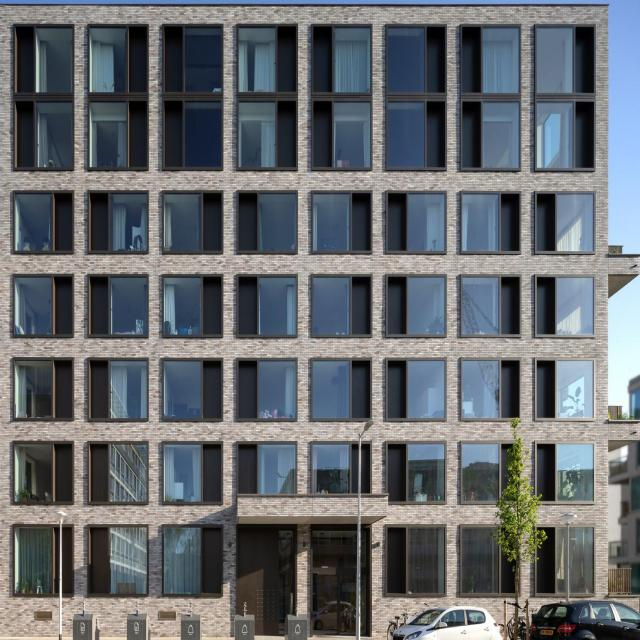door: (312, 534, 367, 638), (238, 532, 279, 637)
window: (388, 528, 445, 596), (386, 278, 446, 341), (387, 443, 447, 502), (387, 362, 445, 421), (35, 29, 74, 99), (35, 106, 75, 173), (15, 528, 53, 596), (556, 529, 594, 596), (461, 531, 499, 596), (184, 105, 220, 173), (239, 103, 276, 169), (90, 103, 126, 170), (484, 104, 520, 171), (538, 29, 573, 97), (111, 529, 147, 595), (334, 105, 370, 171), (387, 30, 424, 94), (164, 530, 200, 595), (389, 103, 425, 168), (483, 30, 519, 95), (239, 31, 276, 94), (14, 279, 54, 337), (538, 105, 573, 171), (90, 30, 126, 94), (312, 363, 350, 423), (258, 195, 297, 253), (187, 28, 221, 94), (557, 195, 594, 255), (109, 446, 147, 504), (164, 364, 201, 423), (109, 280, 147, 337), (110, 195, 148, 252), (258, 281, 296, 338), (258, 362, 295, 420), (336, 31, 370, 93), (558, 363, 594, 421), (557, 280, 593, 338), (14, 197, 51, 253), (313, 280, 350, 336), (408, 197, 445, 253), (463, 363, 500, 419), (111, 363, 146, 422), (463, 446, 499, 503), (313, 197, 350, 252), (557, 447, 594, 502), (463, 280, 499, 336), (17, 364, 52, 421), (164, 449, 200, 504), (462, 197, 498, 252), (166, 195, 200, 253), (313, 445, 351, 496), (16, 448, 51, 503), (259, 447, 296, 496), (167, 281, 200, 335)
